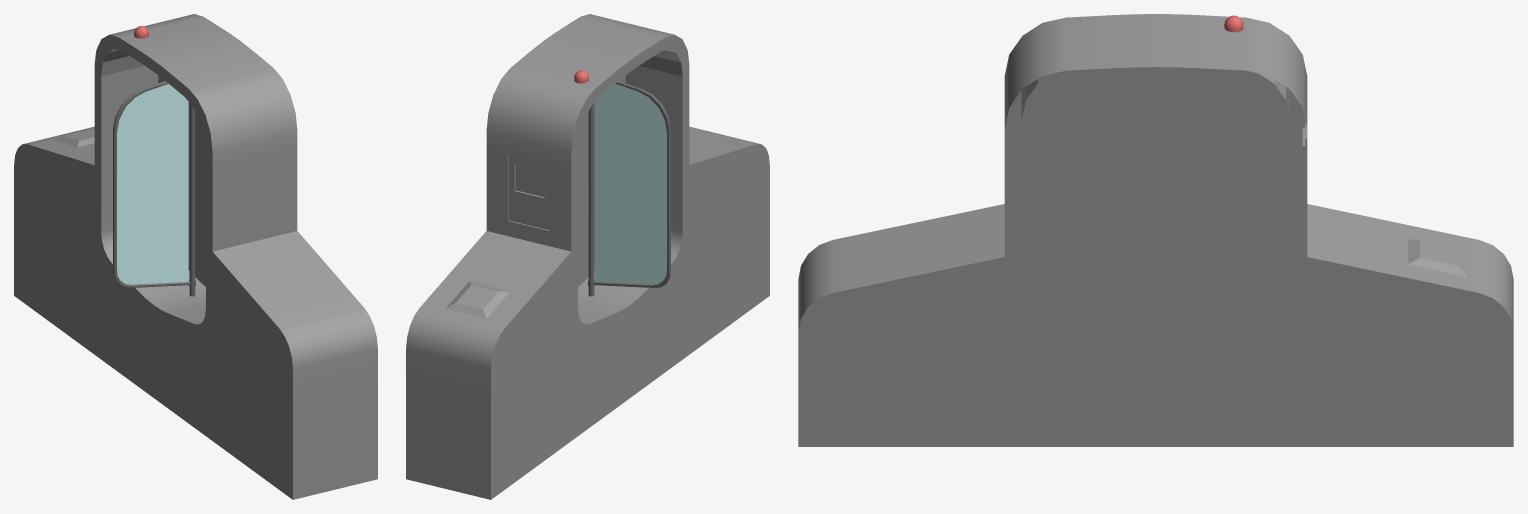
The model's file is Portique.fbx.
The picture shows the model from 3 angles, left to right: view 1: azimuth 30°, elevation 25°; view 2: azimuth 150°, elevation 25°; view 3: azimuth 270°, elevation 25°; orthographic projection. The views are drawn at different scales.
Parts seen in each view (by area): view 1: Portique, Verre_Portillon, Armature_Portillon; view 2: Portique, Verre_Portillon, Armature_Portillon; view 3: Portique.
Boxes of the visible parts, box(x1,y1,x2,y2) form: Portique: box(14, 14, 377, 499); Verre_Portillon: box(117, 84, 188, 284); Armature_Portillon: box(113, 81, 195, 296); Portique: box(406, 14, 769, 499); Verre_Portillon: box(595, 84, 666, 284); Armature_Portillon: box(588, 81, 670, 296); Portique: box(798, 14, 1513, 446).
Bounding box in the file's own units: 93.18 × 245 × 360.
